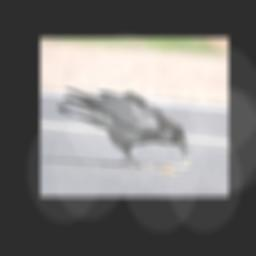Crow: (55, 88, 190, 167)
